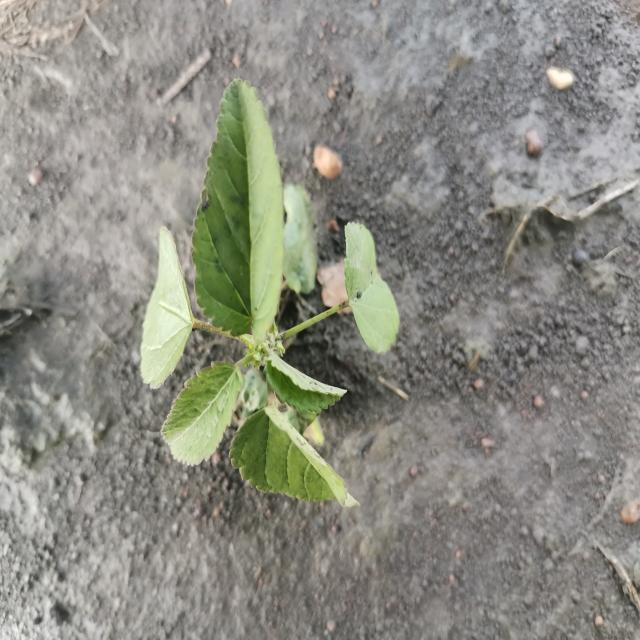PricklySida: (138, 76, 403, 514)
